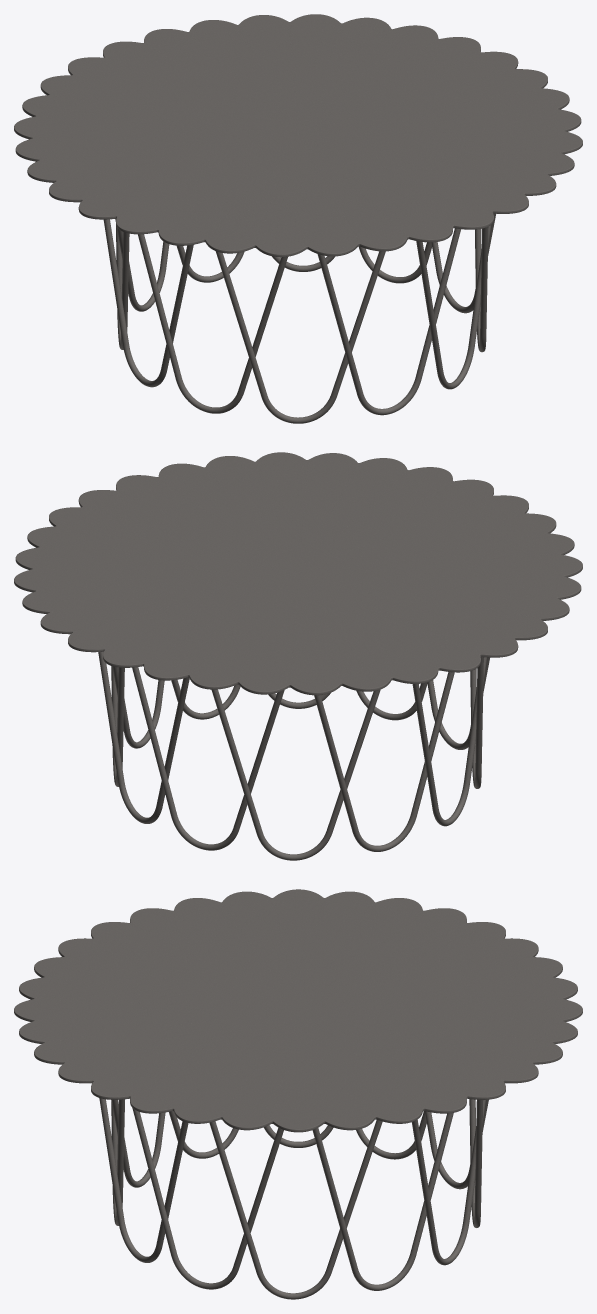
File: girard-flower-table.glb
3 views of the same model, one above another, from view 1: azimuth 30°, elevation 25°; view 2: azimuth 150°, elevation 25°; view 3: azimuth 270°, elevation 25° (orthographic).
Visible parts, largest first — view 1: HRM-GIRARD_FLOWER_TABLE_LARGE_FRAME__vcn_mes_000079_000012ae; view 2: HRM-GIRARD_FLOWER_TABLE_LARGE_FRAME__vcn_mes_000079_000012ae; view 3: HRM-GIRARD_FLOWER_TABLE_LARGE_FRAME__vcn_mes_000079_000012ae.
Boxes of the visible parts, x1=… form: HRM-GIRARD_FLOWER_TABLE_LARGE_FRAME__vcn_mes_000079_000012ae: x1=14, y1=14, x2=582, y2=423; HRM-GIRARD_FLOWER_TABLE_LARGE_FRAME__vcn_mes_000079_000012ae: x1=14, y1=452, x2=582, y2=860; HRM-GIRARD_FLOWER_TABLE_LARGE_FRAME__vcn_mes_000079_000012ae: x1=14, y1=889, x2=582, y2=1299.
Size of what is drawn, in the model's own units: 0.8001 by 0.3302 by 0.8001.
Materials: 1 (1 with a texture image).
